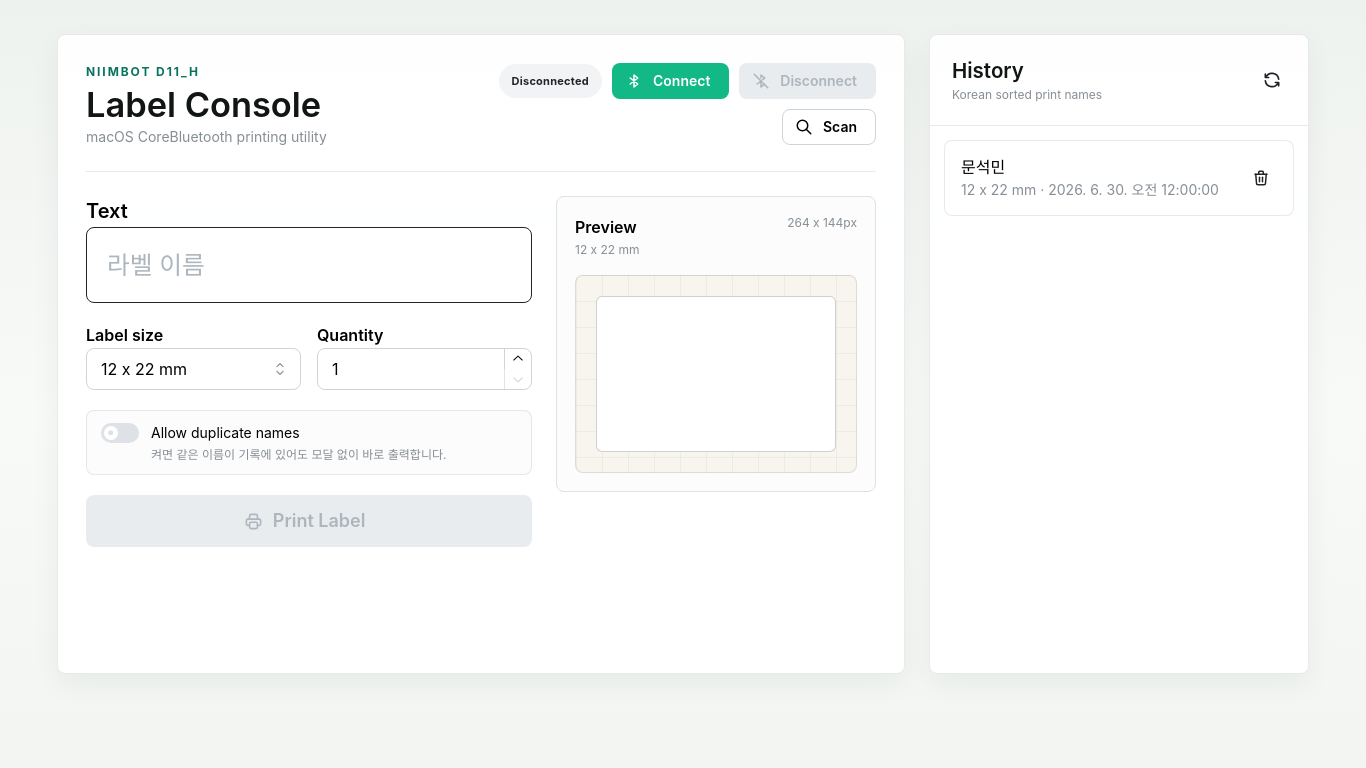
Test: App › checks duplicates when printing with enter
In the field with placeholder "라벨 이름": [309, 265] box [86,227,532,303], type "문석민"
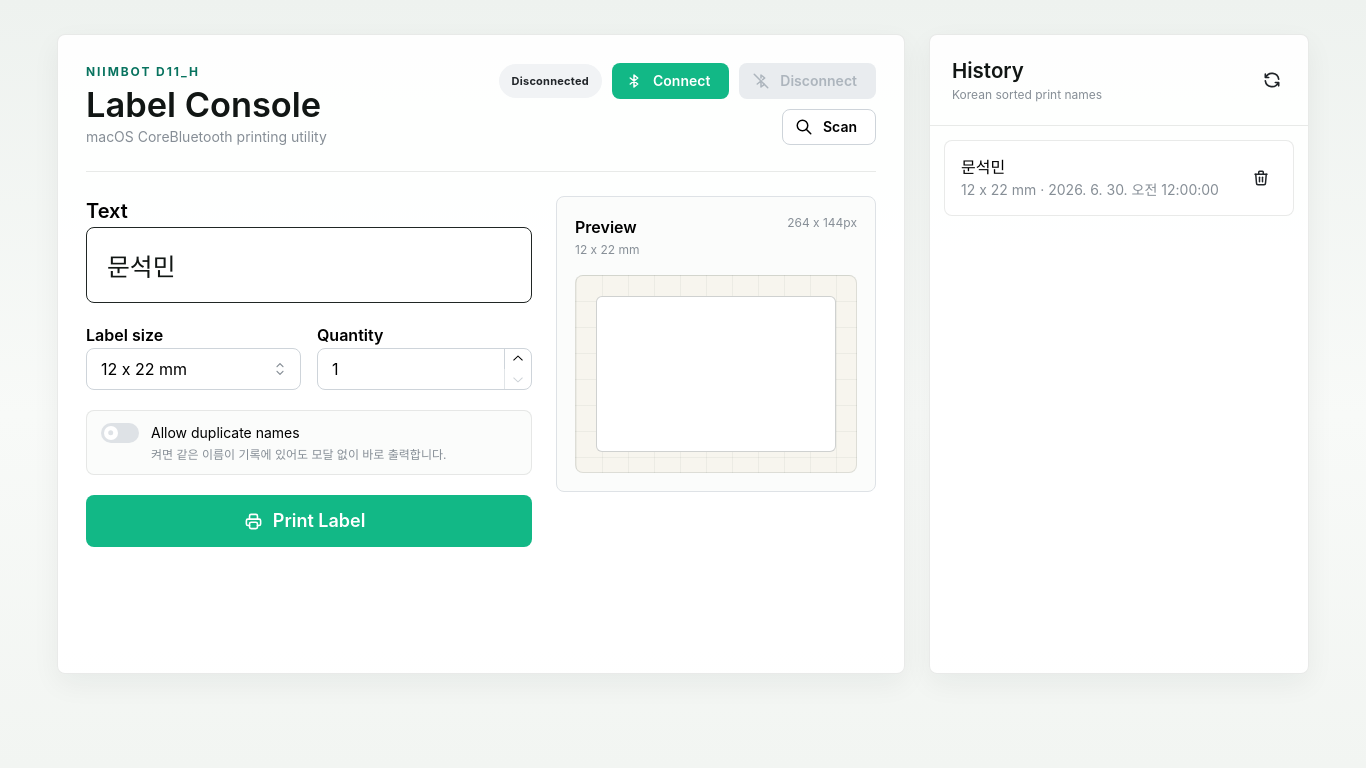
Press Enter in the field with placeholder "라벨 이름", box [86,227,532,303]
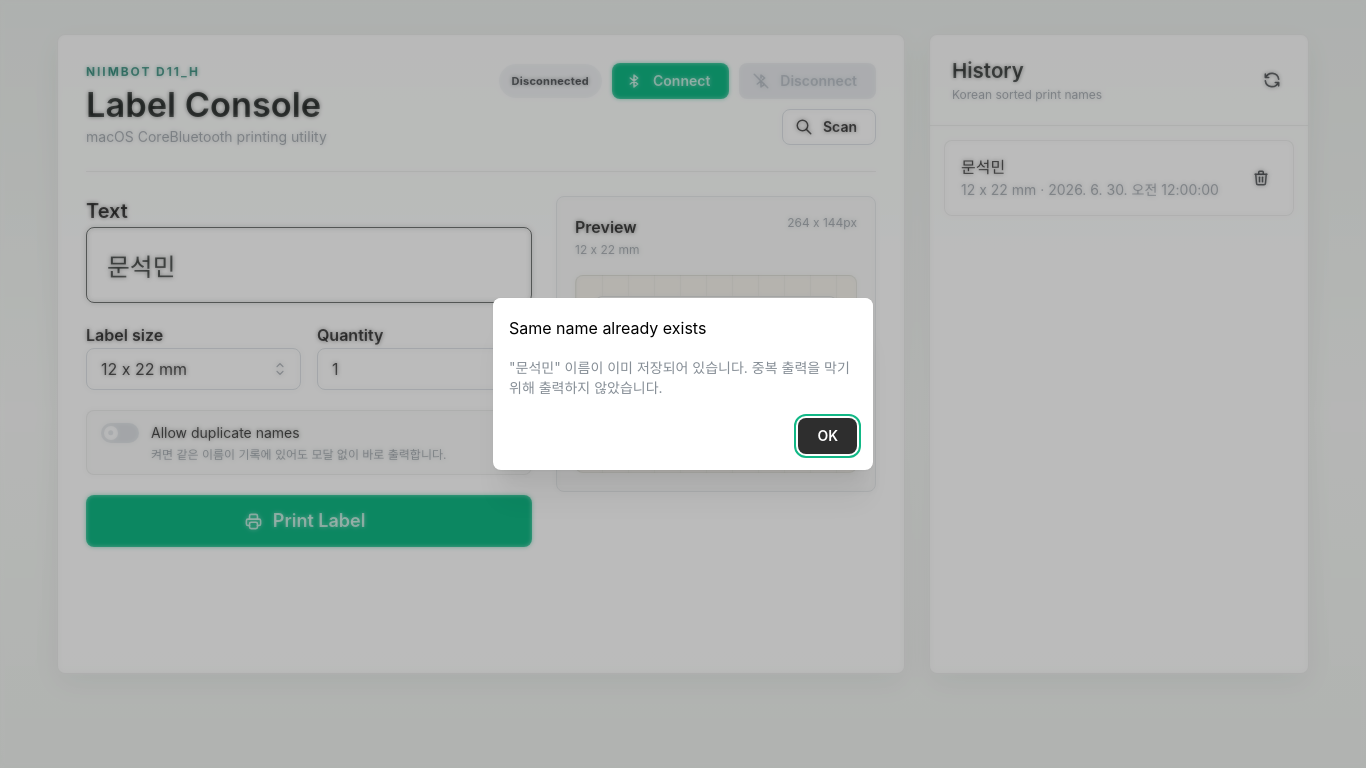
Result: the heading "Same name already exists" is shown at [509,320,706,336]
